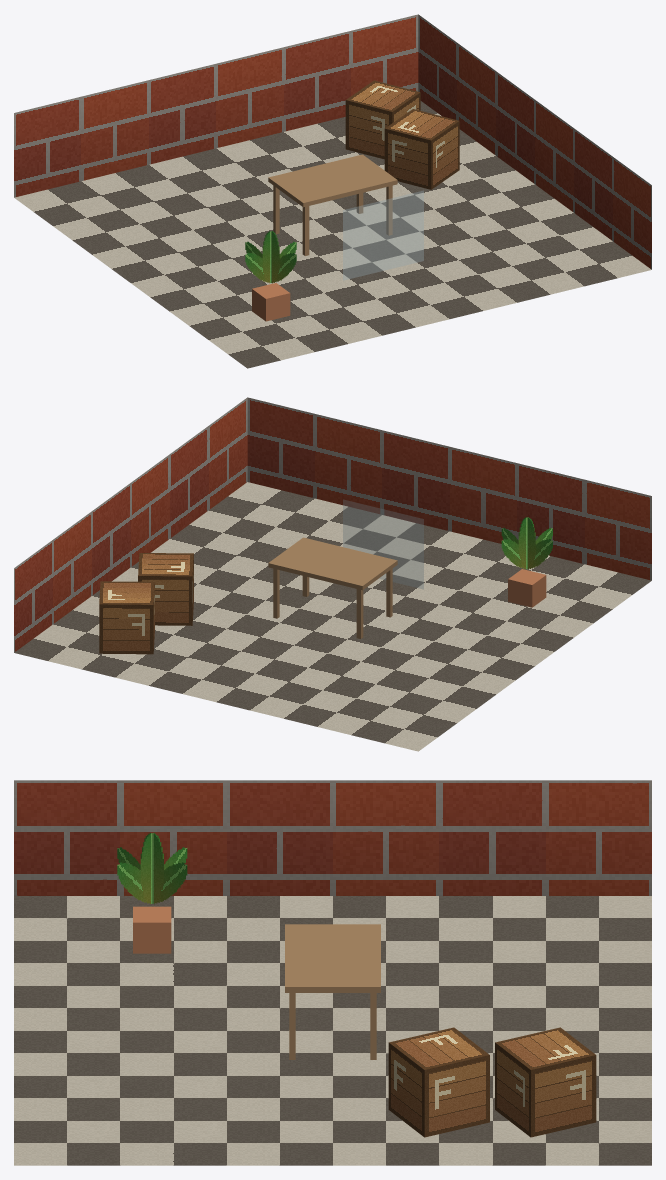
The model's file is room.gltf.
3 views of the same model, one above another, from view 1: azimuth 30°, elevation 25°; view 2: azimuth 150°, elevation 25°; view 3: azimuth 270°, elevation 25° (orthographic). The views are drawn at different scales.
Visible parts, largest first — view 1: Floor, WallNorth, WallEast, Glass, Crate, TableTop, CrateMirrored, Plant, Pot; view 2: Floor, WallSouth, WallEast, Glass, CrateMirrored, TableTop, Crate, Plant, Pot; view 3: Floor, WallWest, Crate, CrateMirrored, TableTop, Plant, Pot.
Part boxes in pixels (x1,y1,x2,y2): Floor: (14,101,651,368); WallNorth: (14,14,418,197); WallEast: (418,14,651,269); Glass: (343,190,423,280); Crate: (384,109,459,189); TableTop: (268,154,397,207); CrateMirrored: (345,80,420,159); Plant: (245,231,296,283); Pot: (252,283,290,321); Floor: (14,482,651,751); WallSouth: (247,397,651,580); WallEast: (14,397,247,652); Glass: (343,499,423,589); CrateMirrored: (99,581,154,654); TableTop: (268,537,397,590); Crate: (138,553,193,625); Plant: (501,517,552,569); Pot: (508,569,546,607); Floor: (14,896,651,1165); WallWest: (14,780,651,895); Crate: (388,1027,489,1137); CrateMirrored: (495,1027,596,1137); TableTop: (285,924,380,992); Plant: (117,832,187,904); Pot: (133,906,171,953).
Bounding box in the file's own units: 6 × 1.22 × 6.
7 materials, 4 textured.
